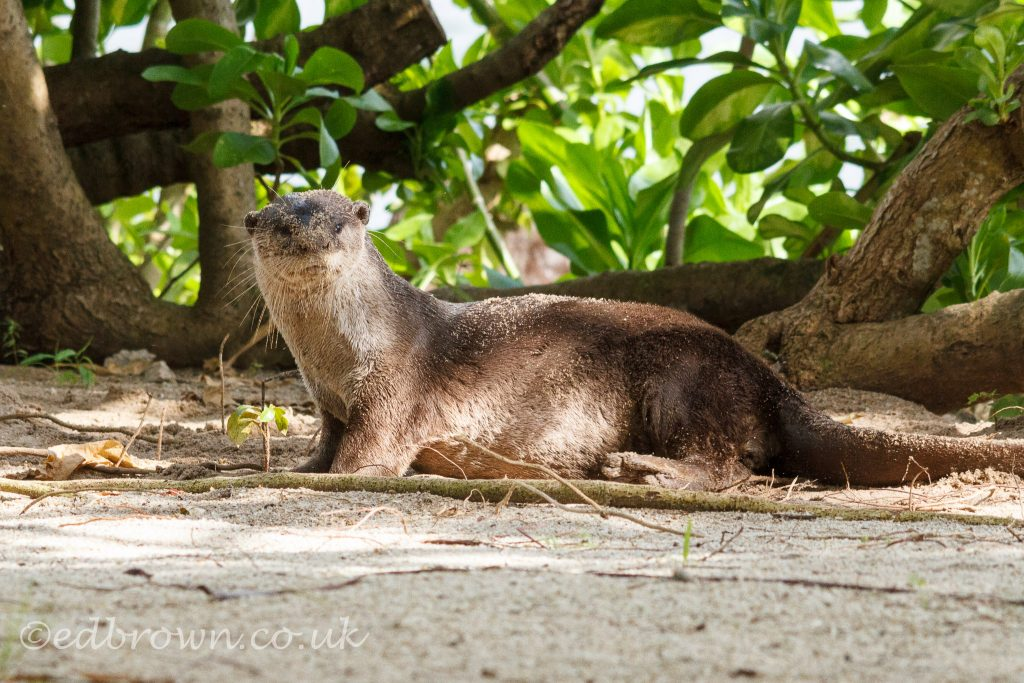otter: (235, 184, 1024, 507)
